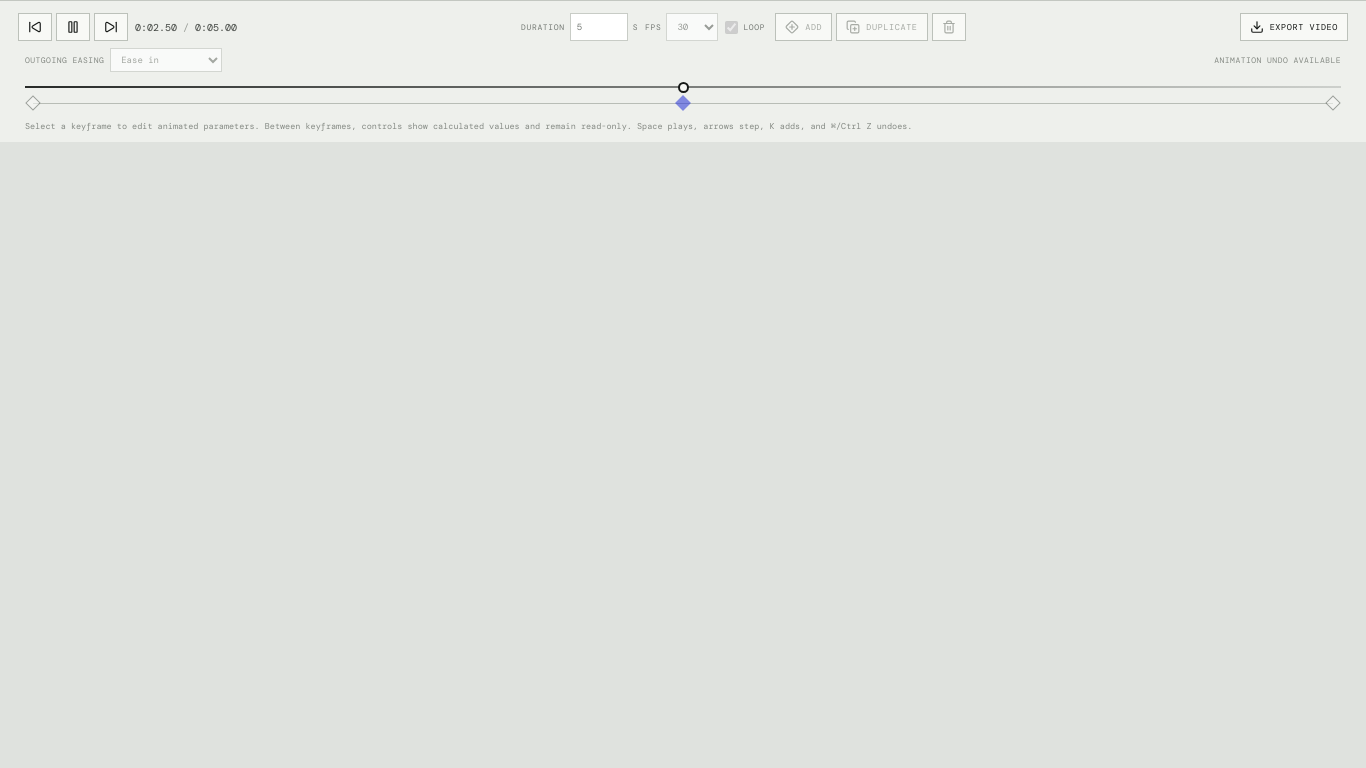
Test case: animation workspace controls › pauses playback when opening export settings without starting an export
Click the button "Export video". click: (1294, 27)
box: x1=1240 y1=13 x2=1348 y2=41
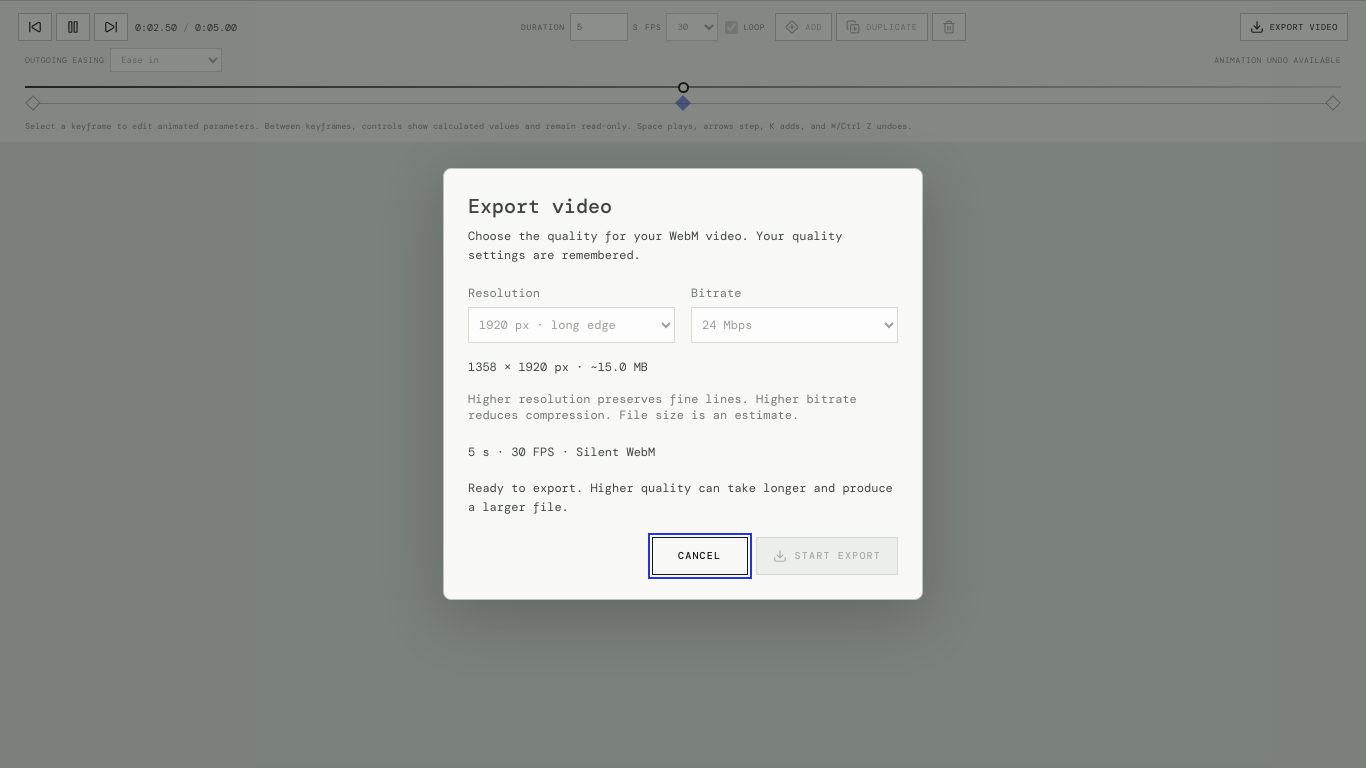
Expected: the dialog is shown, x1=443 y1=168 x2=923 y2=600
